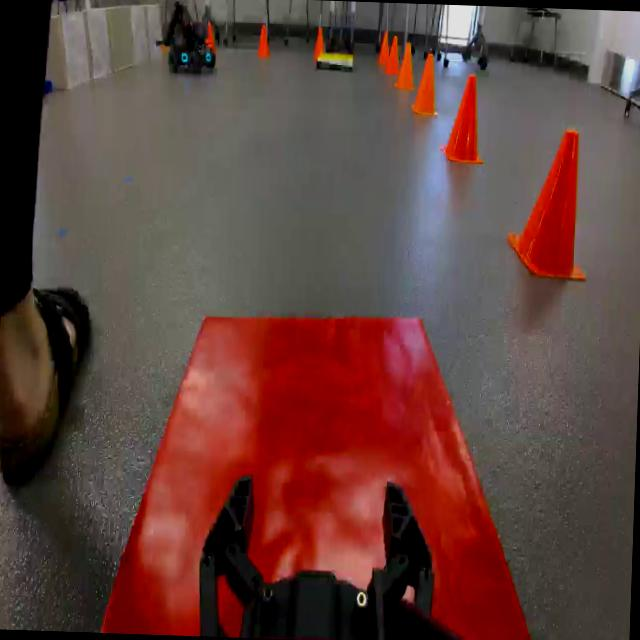cone: (506, 123, 595, 284), (439, 70, 488, 168), (410, 51, 441, 118), (394, 40, 418, 89), (202, 18, 220, 54), (376, 30, 392, 66), (388, 34, 402, 72), (257, 21, 271, 58), (311, 26, 327, 58)
red: (95, 298, 551, 640)
river: (41, 79, 56, 99)
robot: (154, 0, 222, 78)
storage cube: (41, 1, 92, 95), (76, 2, 116, 83), (102, 0, 140, 76), (127, 0, 151, 67), (142, 0, 166, 58)
yellow goal: (316, 48, 356, 76)
